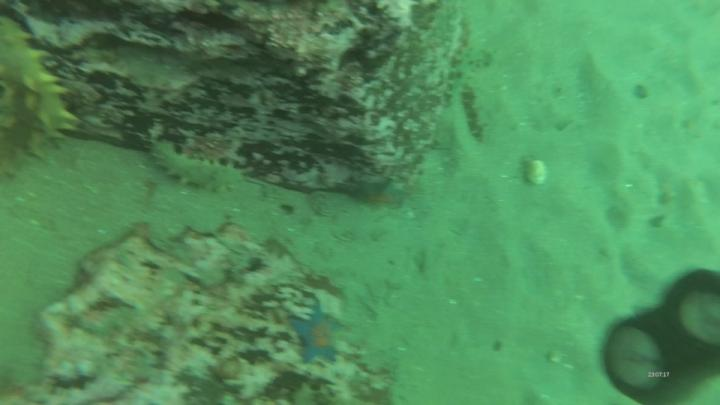holothurian: (1, 15, 81, 176), (148, 136, 250, 197), (462, 81, 488, 146)
scallop: (525, 158, 550, 188)
starfish: (292, 309, 350, 366), (357, 175, 412, 213)
